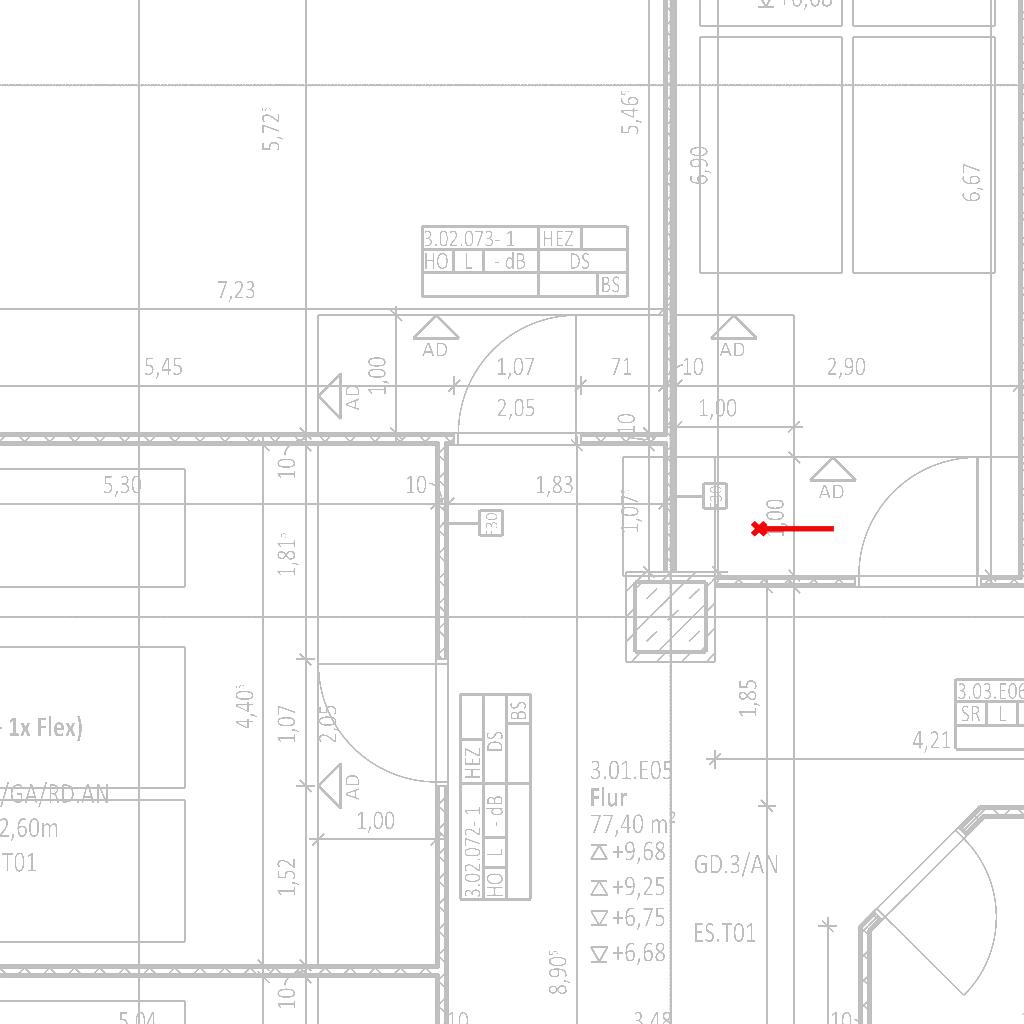ASR_Ansaugoeffnung: (749, 516, 837, 539)
